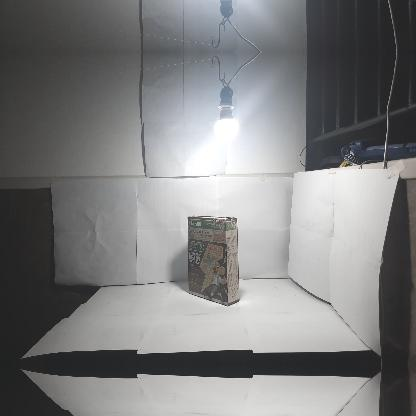Koko-Krunch: (187, 214, 239, 306)
